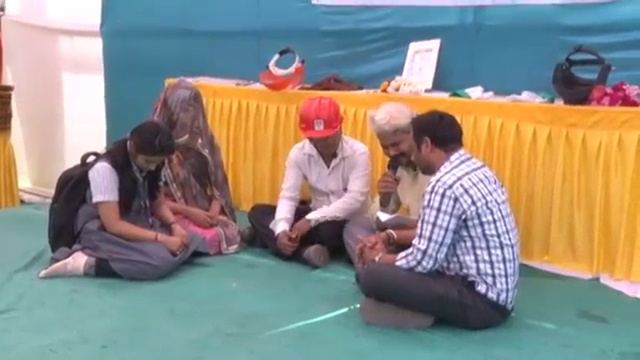helmet: (297, 95, 344, 140)
helmet_off: (410, 109, 465, 177), (372, 99, 418, 171), (157, 80, 207, 144), (122, 121, 177, 174)
helmet_on: (295, 94, 345, 159)
person: (340, 102, 523, 325), (40, 115, 197, 282), (241, 94, 381, 268), (146, 79, 240, 258), (343, 105, 435, 264)
